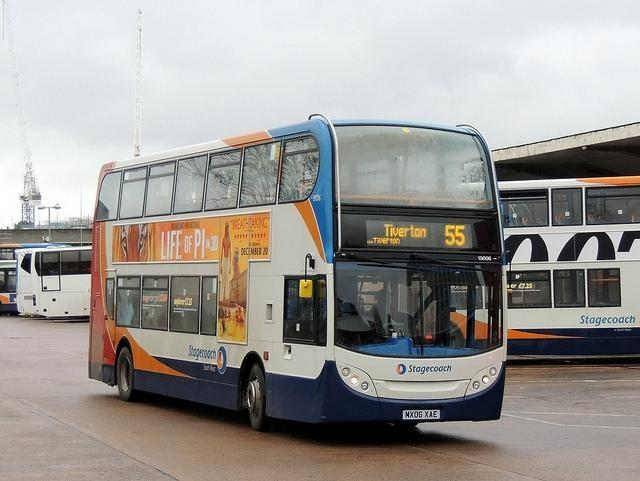bus: (90, 116, 510, 424), (497, 177, 640, 360), (16, 244, 91, 320), (0, 260, 21, 316)
